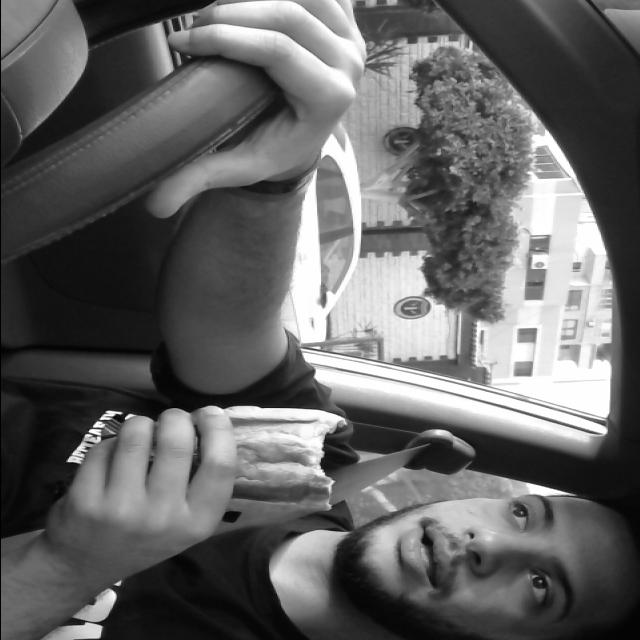eating: (138, 407, 334, 517)
